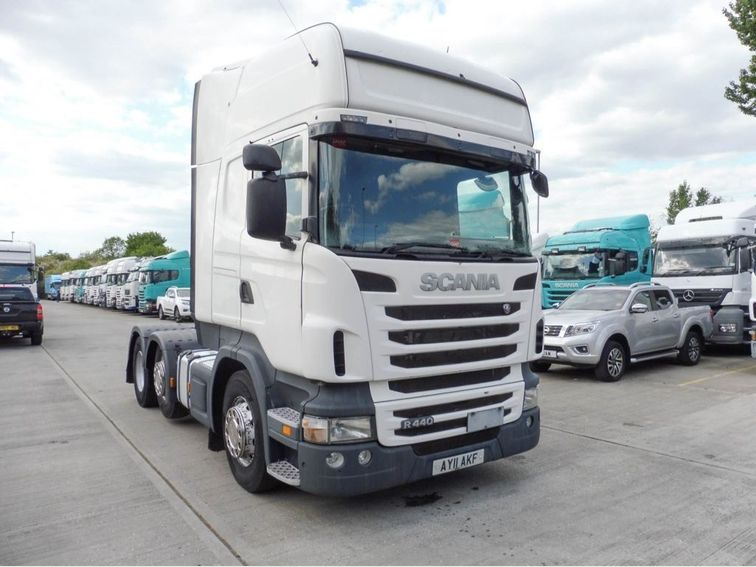Semi: (125, 22, 540, 499)
Truck: (532, 284, 713, 381), (0, 285, 44, 348)
